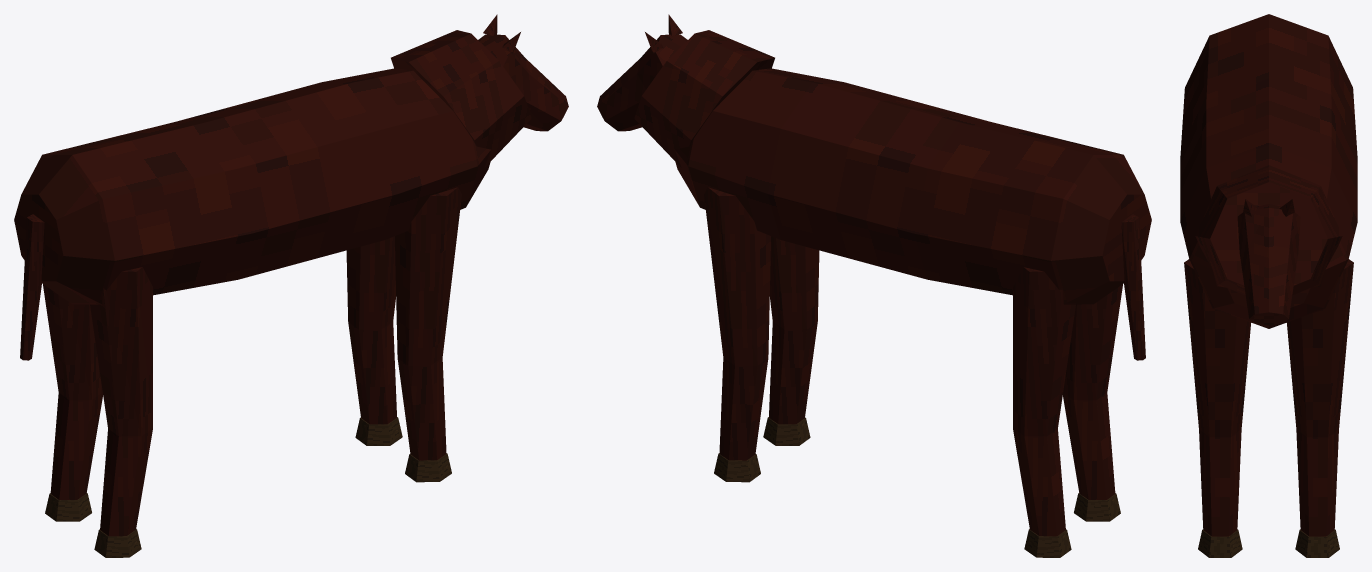
The model's file is becerro.glb.
3 renders of one model, left to right at view 1: azimuth 30°, elevation 25°; view 2: azimuth 150°, elevation 25°; view 3: azimuth 270°, elevation 25°, orthographic.
Visible parts, largest first — view 1: cuerpo, pata_delantera_der, pata_trasera_der, cuello, pata_trasera_izq, pata_delantera_izq, cabeza, cola, pezuna_delantera_der, pezuna_delantera_izq, pezuna_trasera_izq, pezuna_trasera_der; view 2: cuerpo, pata_delantera_izq, pata_trasera_izq, cuello, pata_trasera_der, pata_delantera_der, cabeza, cola, pezuna_delantera_izq, pezuna_delantera_der, pezuna_trasera_der, pezuna_trasera_izq; view 3: cuerpo, pata_delantera_izq, pata_delantera_der, cuello, cabeza, pezuna_delantera_izq, pezuna_delantera_der, orejas.
Boxes of the visible parts, x1,y1,x2,y2 form: cuerpo: (14, 68, 490, 304); pata_delantera_der: (395, 187, 461, 460); pata_trasera_der: (90, 267, 152, 536); cuello: (391, 30, 531, 167); pata_trasera_izq: (43, 284, 102, 499); pata_delantera_izq: (346, 236, 396, 424); cabeza: (478, 34, 568, 131); cola: (20, 214, 44, 360); pezuna_delantera_der: (405, 453, 451, 482); pezuna_delantera_izq: (355, 417, 402, 445); pezuna_trasera_izq: (45, 493, 91, 521); pezuna_trasera_der: (94, 529, 141, 557); cuerpo: (675, 68, 1151, 304); pata_delantera_izq: (704, 187, 770, 460); pata_trasera_izq: (1013, 267, 1075, 536); cuello: (634, 30, 774, 167); pata_trasera_der: (1063, 284, 1122, 499); pata_delantera_der: (769, 236, 819, 424); cabeza: (597, 34, 687, 131); cola: (1121, 214, 1145, 360); pezuna_delantera_izq: (714, 453, 760, 482); pezuna_delantera_der: (763, 417, 810, 445); pezuna_trasera_der: (1074, 493, 1120, 521); pezuna_trasera_izq: (1024, 529, 1071, 557); cuerpo: (1180, 14, 1357, 328); pata_delantera_izq: (1287, 259, 1353, 536); pata_delantera_der: (1184, 259, 1250, 536); cuello: (1195, 165, 1342, 295); cabeza: (1237, 204, 1300, 325); pezuna_delantera_izq: (1295, 529, 1339, 557); pezuna_delantera_der: (1198, 529, 1242, 557); orejas: (1243, 199, 1294, 216).
Bounding box in the file's own units: 1.4 × 1 × 0.4.
Materials: 1 (1 with a texture image).
